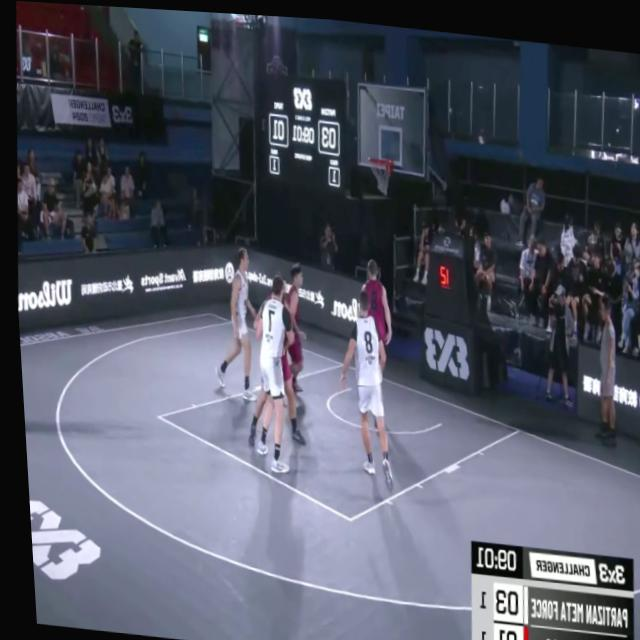hoop: (363, 148, 392, 194)
player: (326, 283, 400, 492), (236, 267, 303, 477), (235, 271, 311, 451), (205, 242, 260, 399), (273, 262, 310, 399), (352, 255, 393, 354)
